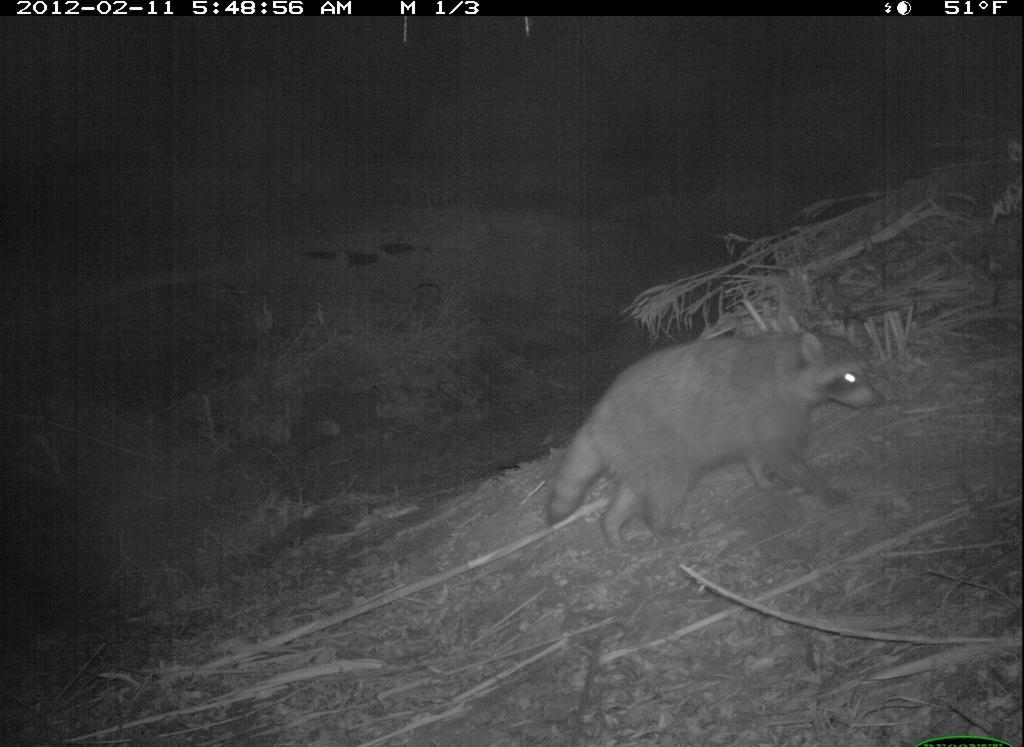raccoon: (543, 317, 895, 560)
